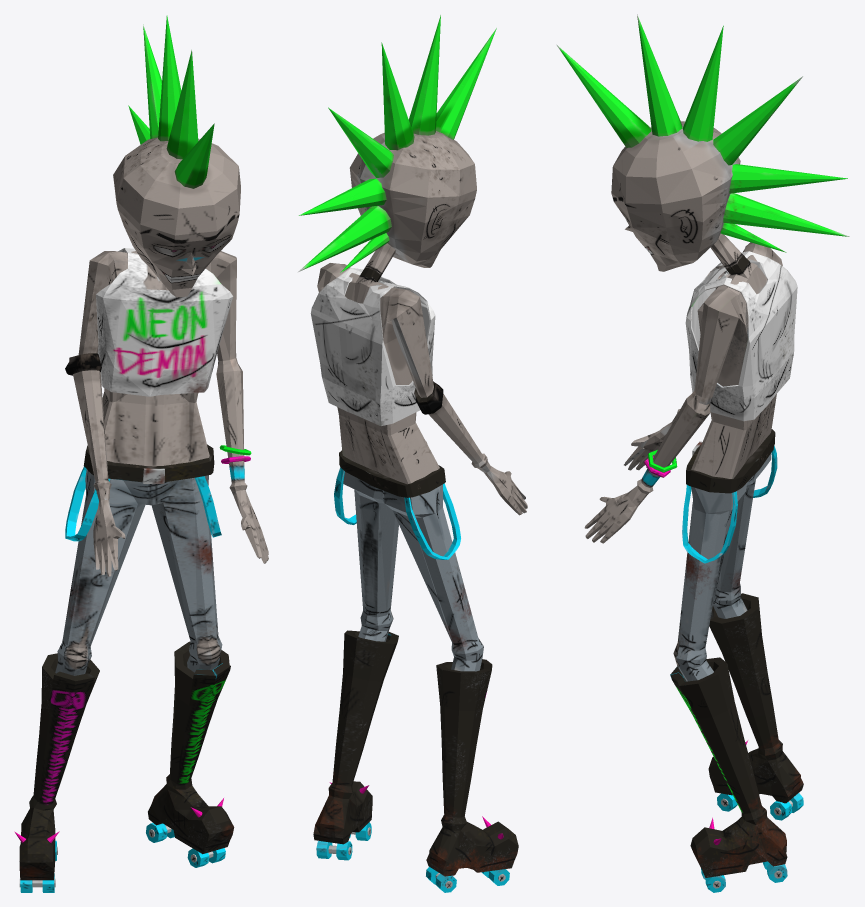
File: punkAnimation_000006.obj
The picture shows the model from 3 angles, left to right: view 1: azimuth 30°, elevation 25°; view 2: azimuth 150°, elevation 25°; view 3: azimuth 270°, elevation 25°; orthographic projection. The views are drawn at different scales.
Parts seen in each view (by area): view 1: Cube.004_Cube.003; view 2: Cube.004_Cube.003; view 3: Cube.004_Cube.003.
Boxes of the visible parts, x1,y1,x2,y2 form: Cube.004_Cube.003: (14, 15, 268, 892); Cube.004_Cube.003: (297, 15, 527, 892); Cube.004_Cube.003: (557, 14, 849, 892).
Bounding box in the file's own units: 1.94 × 7.45 × 2.35.
